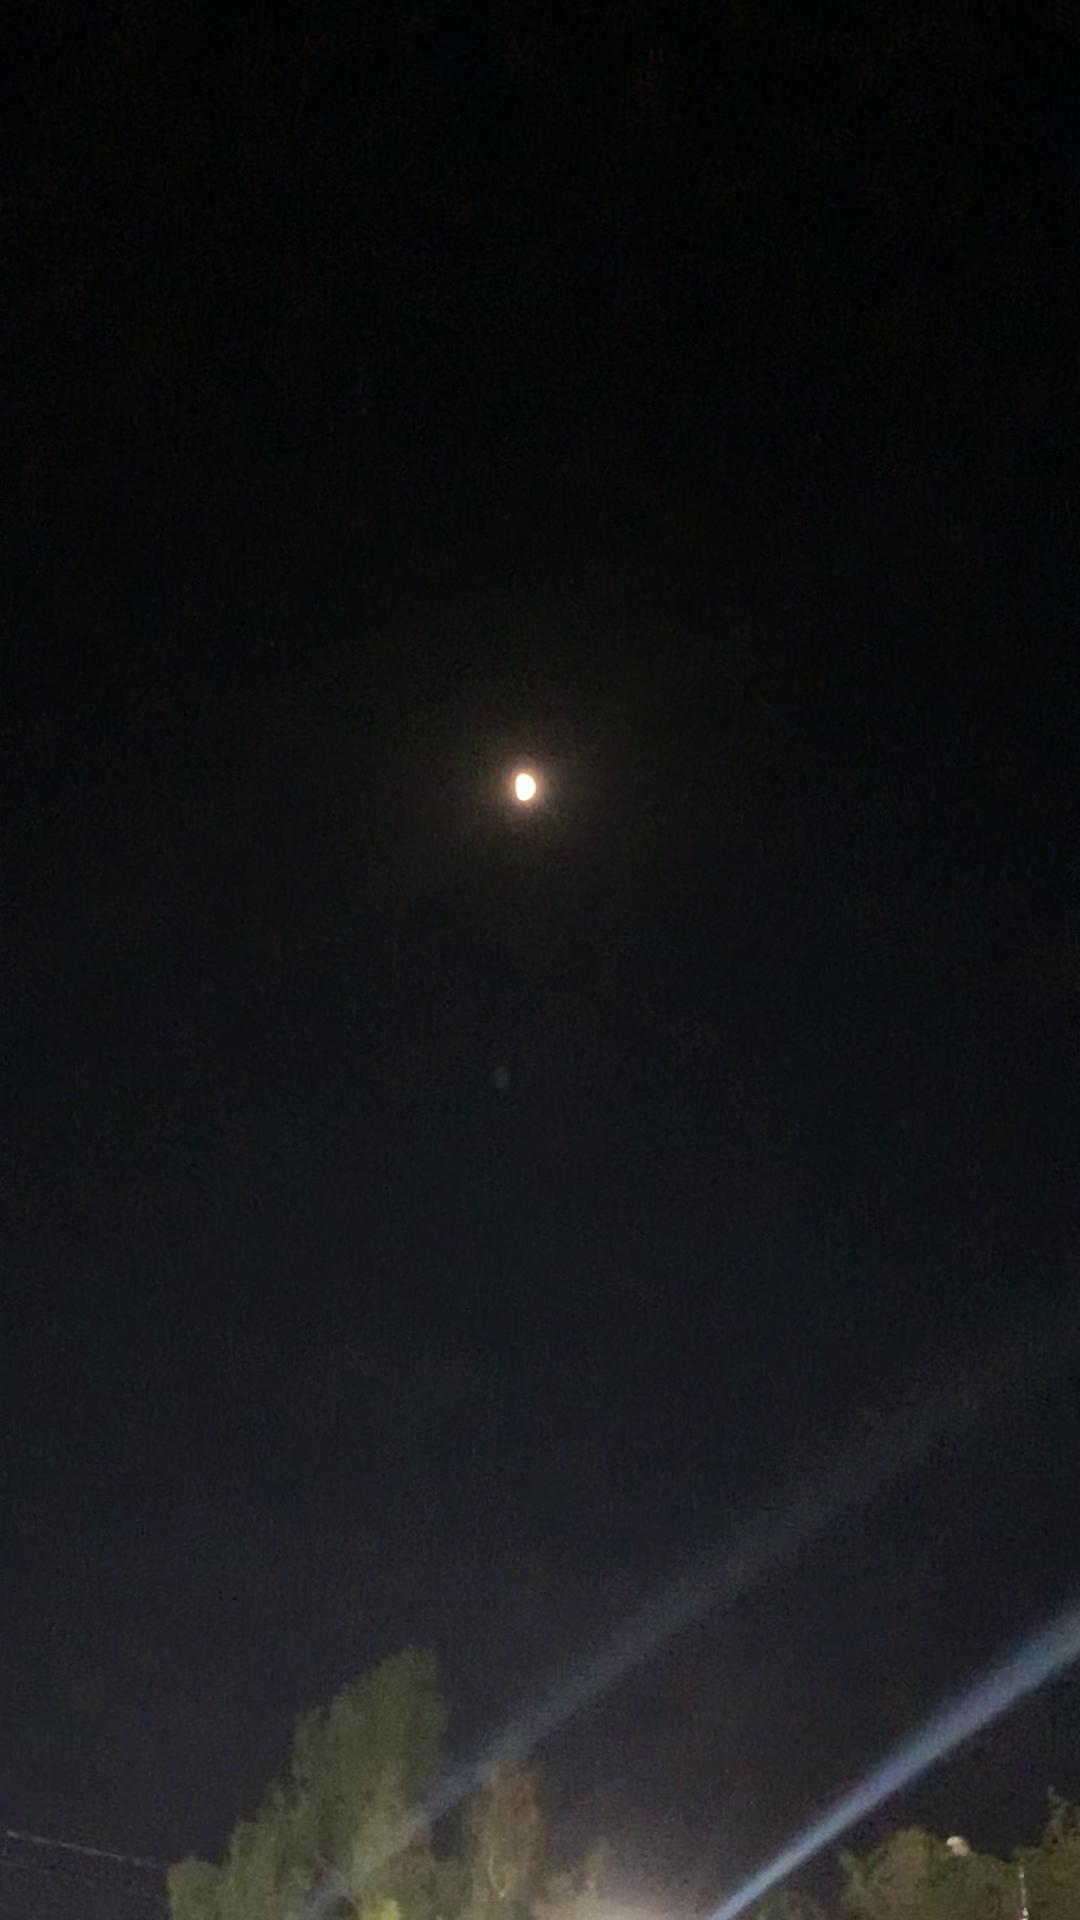moon: (488, 741, 568, 831)
